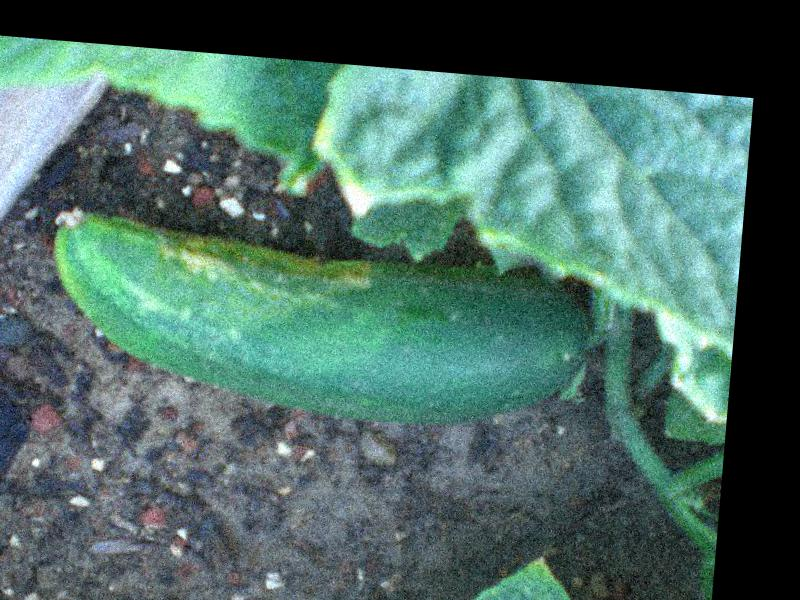Cucumber: (41, 206, 594, 436)
